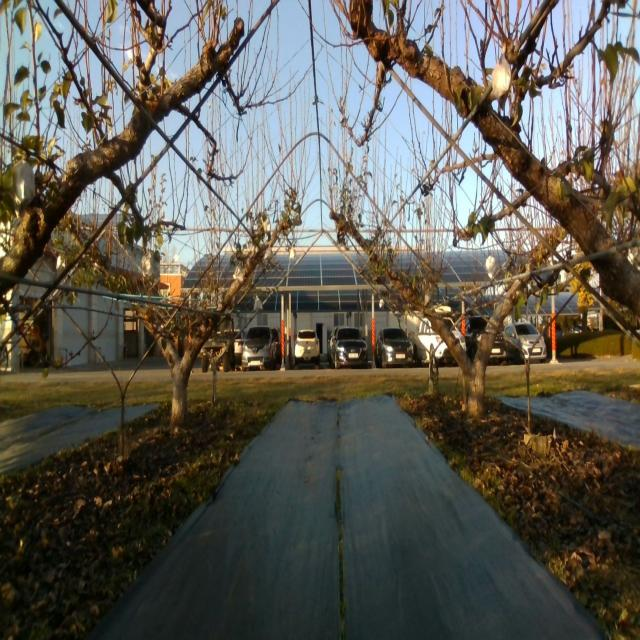pearbags: (12, 160, 35, 217), (492, 56, 512, 112), (141, 250, 156, 280), (486, 256, 496, 280), (233, 262, 244, 282)
